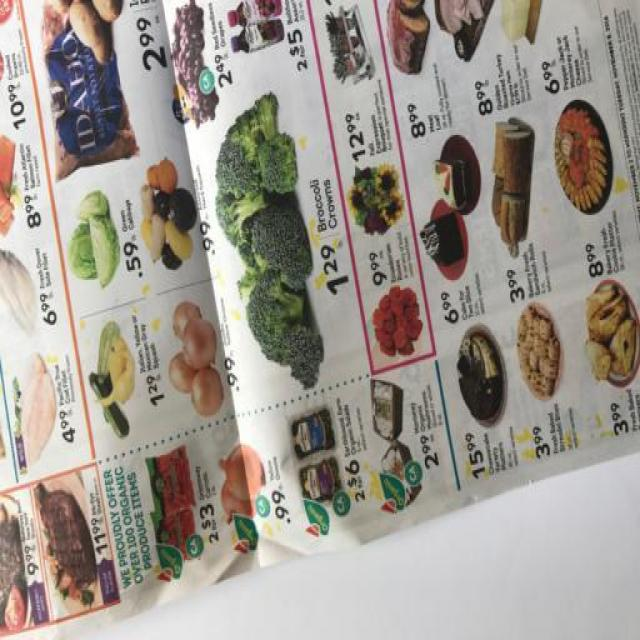paper: (1, 4, 640, 636)
